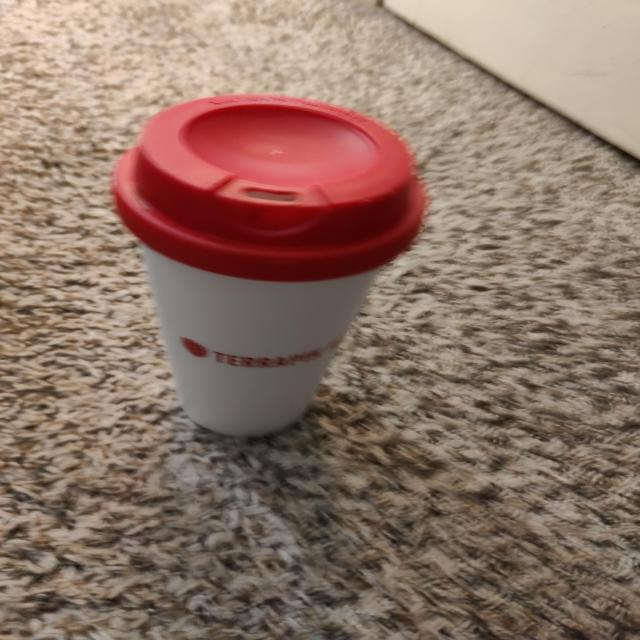mug: (113, 107, 423, 438)
